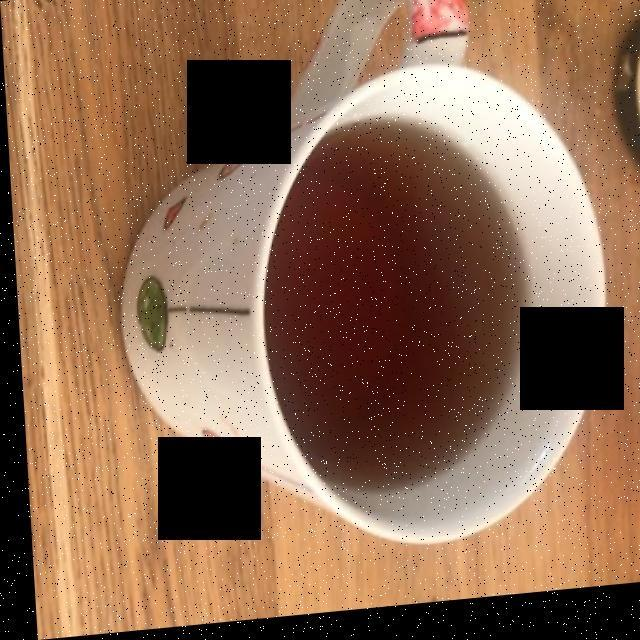tea: (269, 136, 526, 495)
